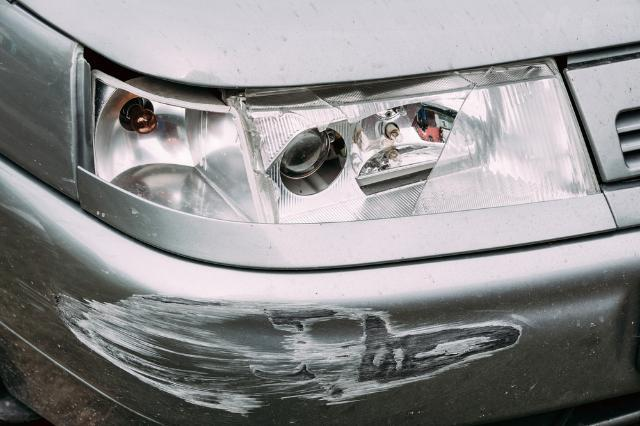lamp broken: (91, 55, 604, 224)
scratch: (0, 202, 524, 417)
